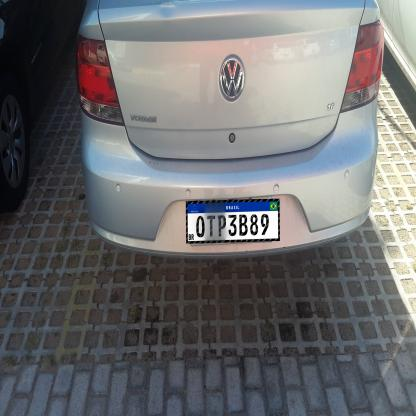PlacaM: (186, 198, 280, 244)
